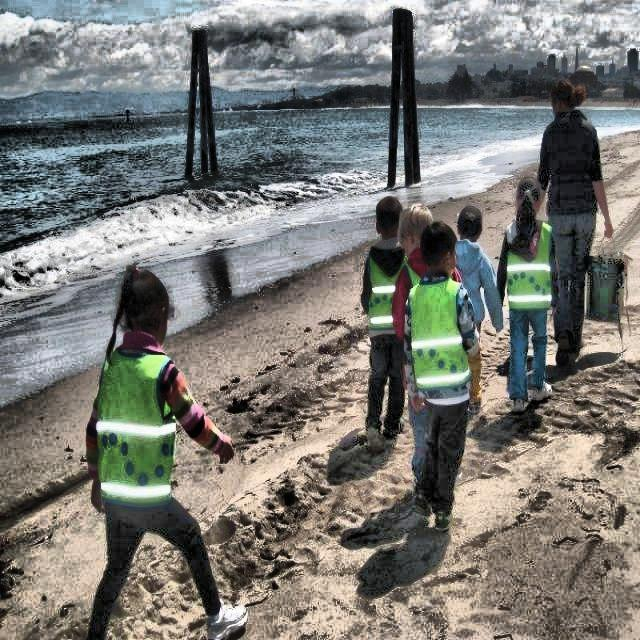safety_jacket: (93, 349, 179, 494), (410, 274, 468, 394), (361, 243, 405, 331), (508, 219, 552, 306)
